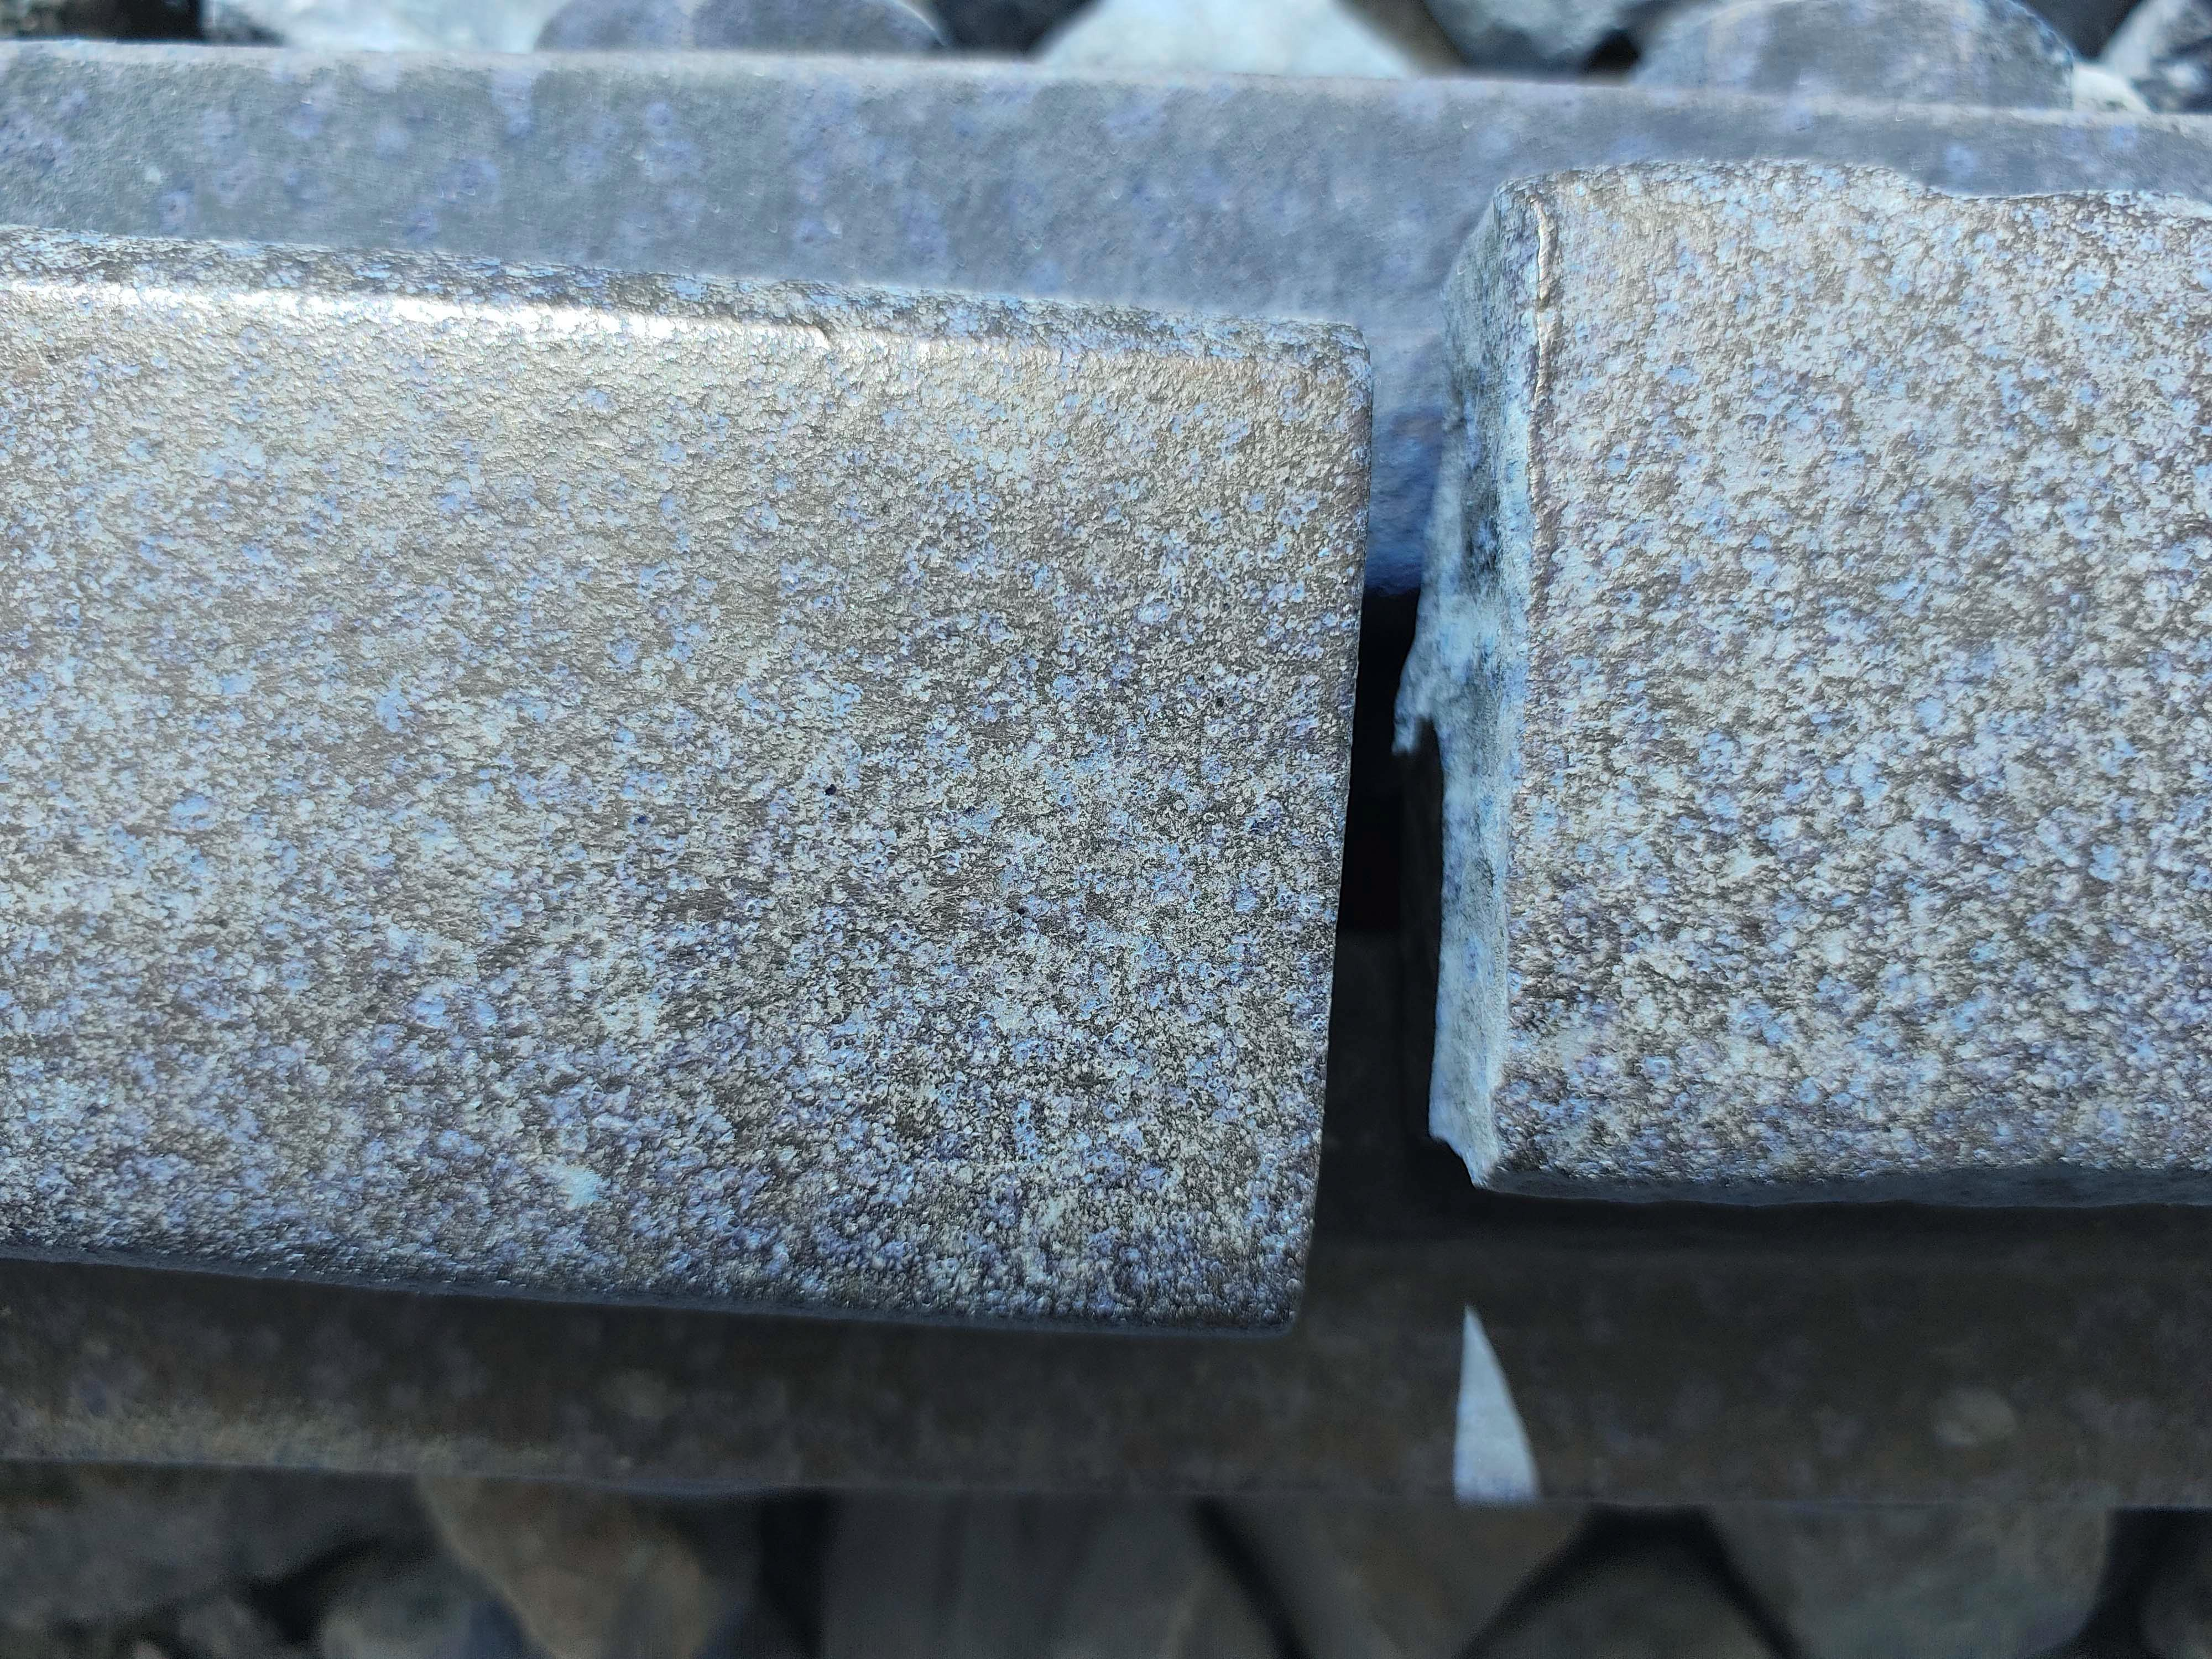error2: (1127, 159, 1672, 1448)
